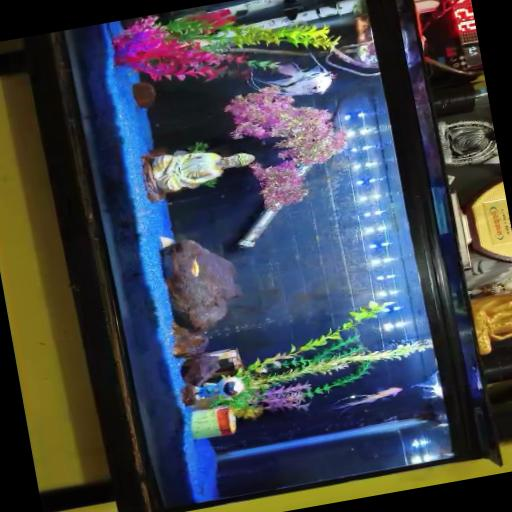Fish: (250, 57, 333, 95), (332, 386, 400, 411), (410, 371, 441, 398), (190, 258, 199, 276)
